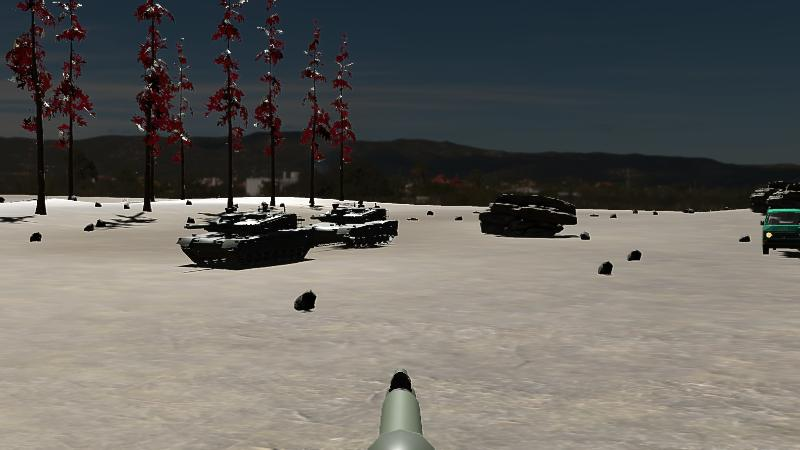Tank: (175, 202, 309, 271), (309, 208, 400, 252), (319, 198, 389, 225)
car: (759, 206, 800, 258)
